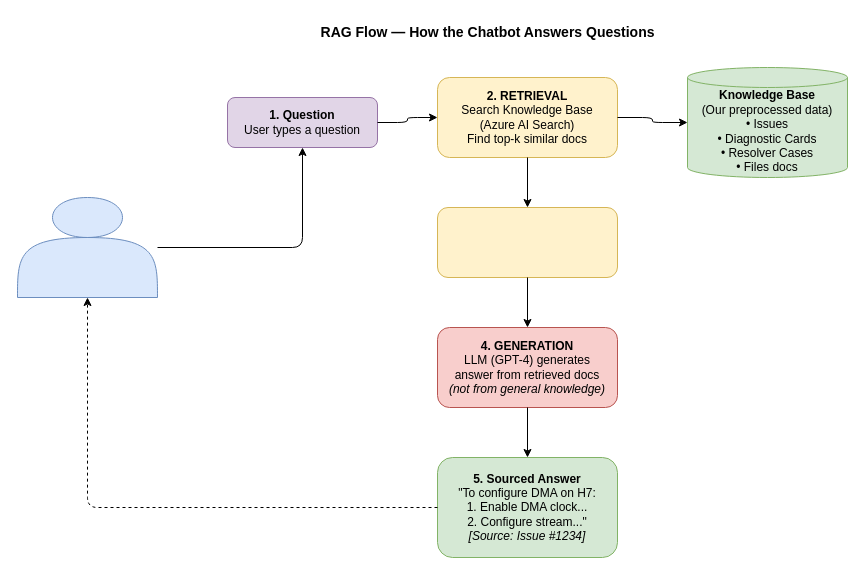
The diagram is 865 pixels wide and 575 high, and some of its shapes have lost their labels. Here are the shapes that lost their labels. From the top down, the box of each, then its label:
(16, 196, 158, 298): User "How to configure DMA on STM32H7?"
(436, 206, 618, 278): 3. AUGMENTATION Question + Retrieved docs = Augmented prompt
